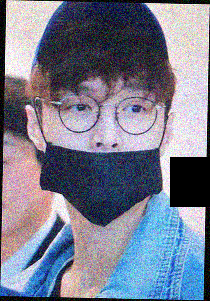mask_weared_incorrect: (38, 81, 165, 227)
